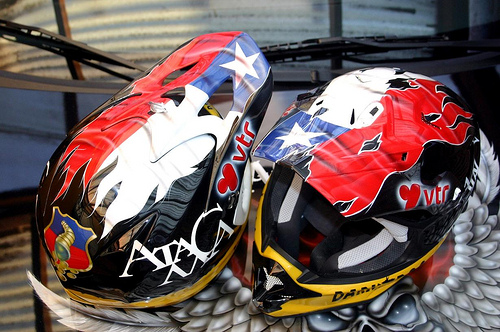helmet: (259, 62, 478, 289), (50, 81, 244, 285)
